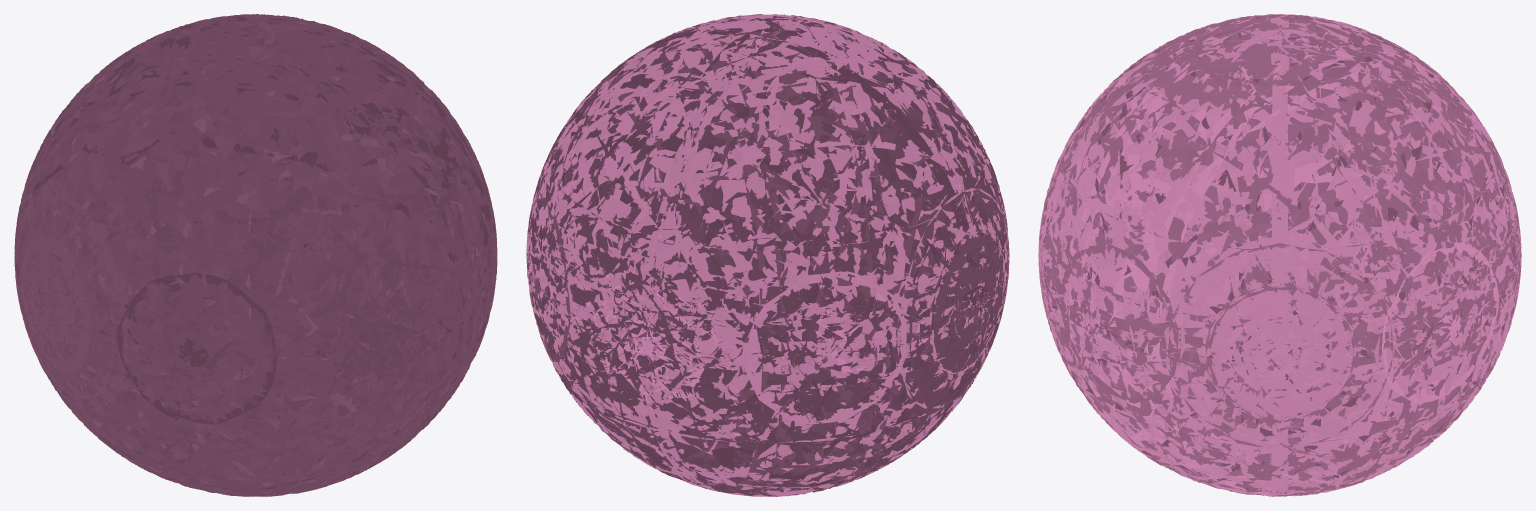
The model's file is sys-sd-safety.glb.
3 renders of one model, left to right at view 1: azimuth 30°, elevation 25°; view 2: azimuth 150°, elevation 25°; view 3: azimuth 270°, elevation 25°, orthographic.
Visible parts, largest first — view 1: TS-sd-safety-1720; view 2: TS-sd-safety-1720; view 3: TS-sd-safety-1720.
Boxes of the visible parts, box(x1,y1,x2,y2) form: TS-sd-safety-1720: box(14, 14, 497, 496); TS-sd-safety-1720: box(526, 14, 1009, 496); TS-sd-safety-1720: box(1038, 14, 1521, 496).
Size of the model in its own units: 2 by 2 by 2.
